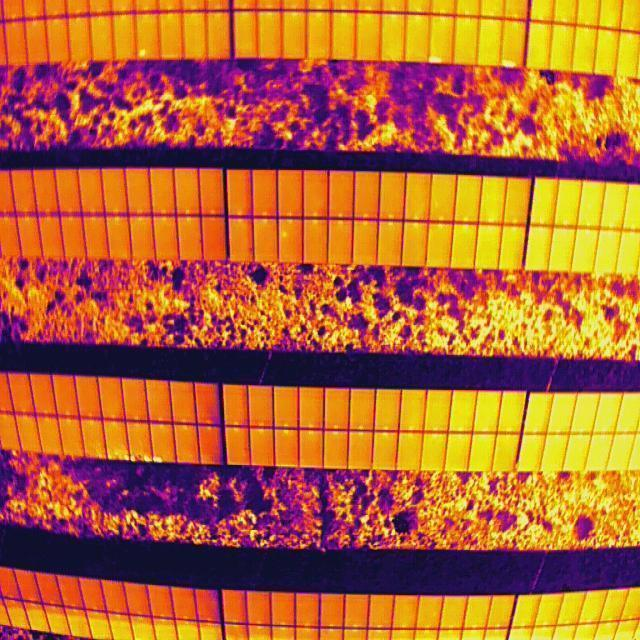hotspot: (144, 445, 166, 465), (107, 449, 132, 462), (501, 58, 516, 68), (138, 48, 147, 61)
